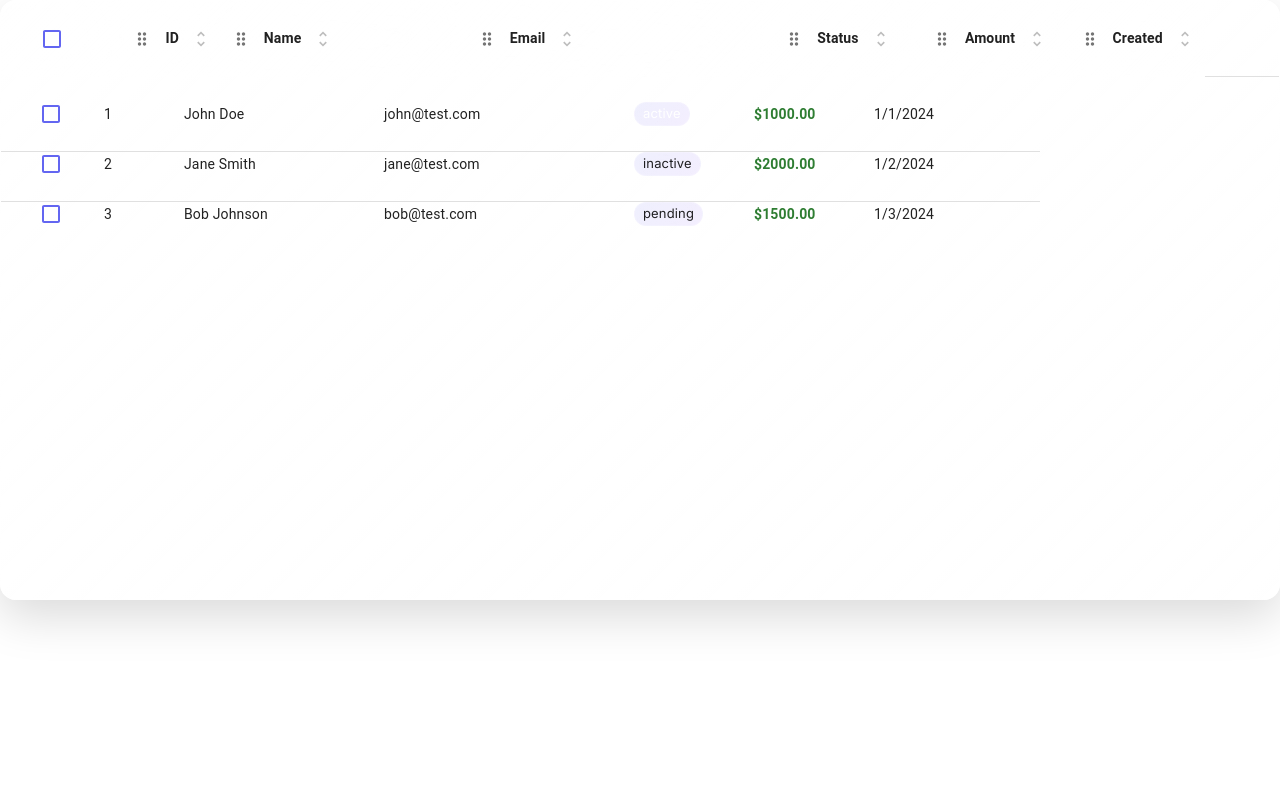
Test: VirtualizedDataTable › handles context menu
# Right click on a row
Right-click the text "John Doe" at (56, 102), box [1, 77, 110, 127]
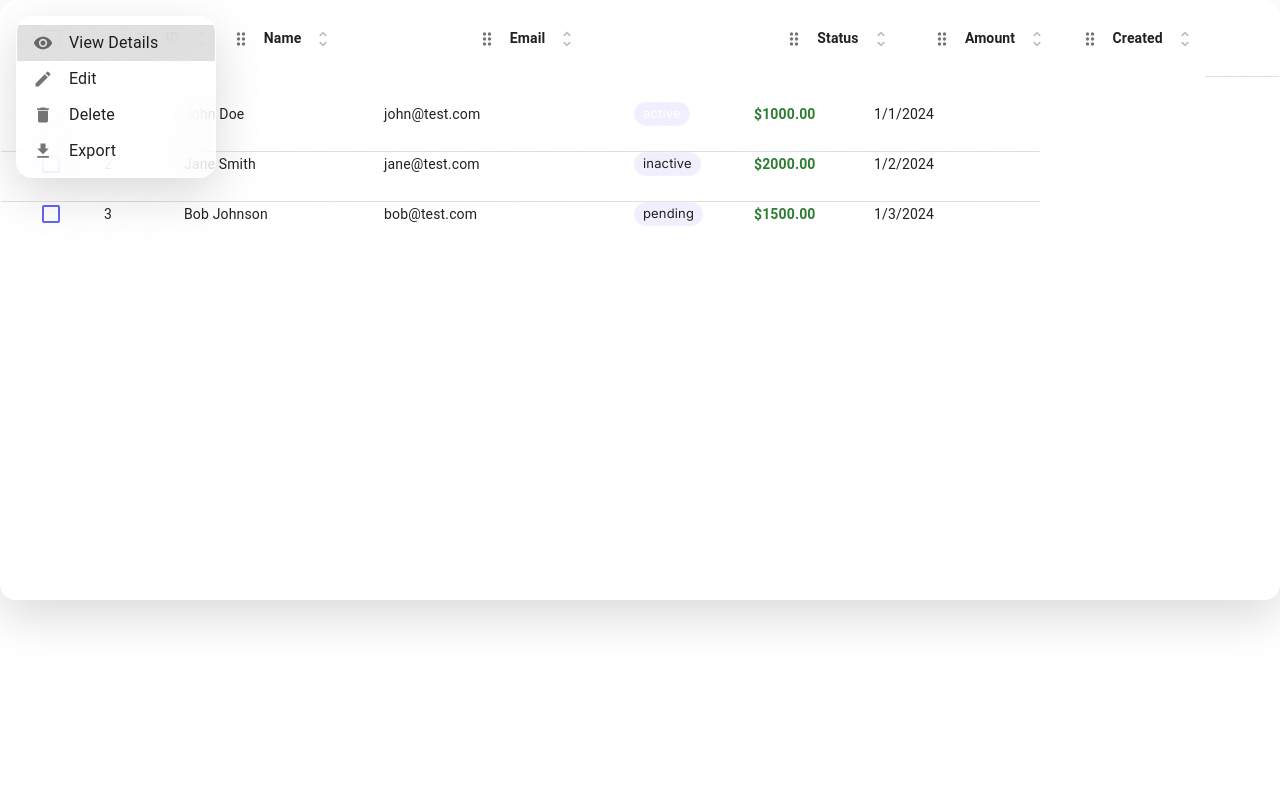
Expected: the text "View Details" is shown, [69, 33, 158, 52]
Expected: the text "Edit" is shown, [69, 69, 97, 88]
Expected: the text "Delete" is shown, [69, 105, 115, 124]
